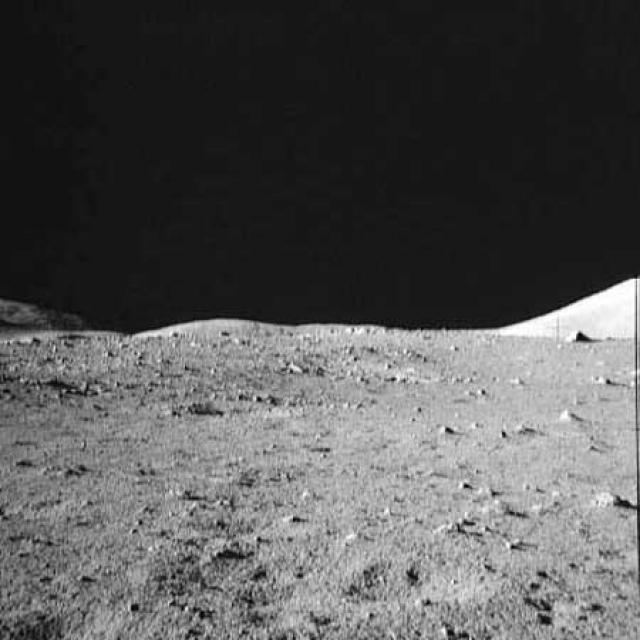crater: (160, 392, 276, 422)
rock: (593, 486, 623, 514), (51, 459, 81, 484), (589, 372, 619, 394), (564, 326, 592, 348), (513, 418, 535, 442), (551, 408, 582, 424), (438, 421, 458, 445), (467, 481, 493, 499), (487, 501, 512, 518)
